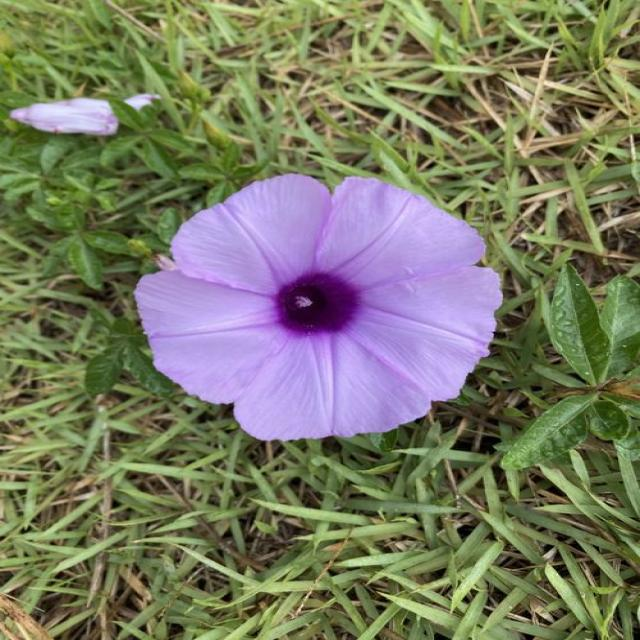ipomoea: (129, 171, 506, 444), (6, 89, 162, 140)
